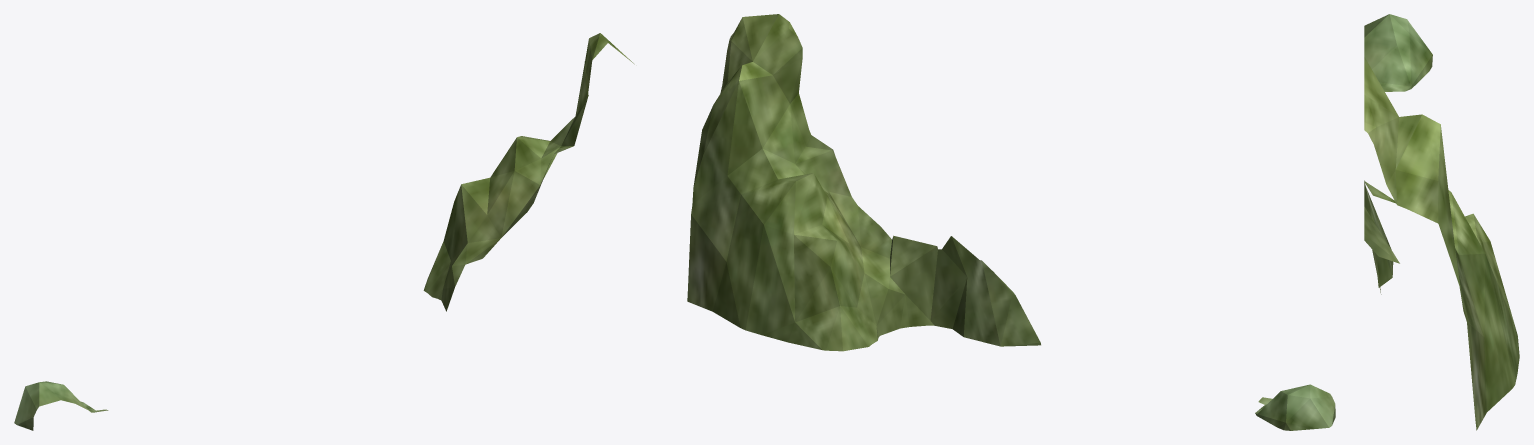
The picture shows the model from 3 angles, left to right: view 1: azimuth 30°, elevation 25°; view 2: azimuth 150°, elevation 25°; view 3: azimuth 270°, elevation 25°; orthographic projection. The views are drawn at different scales.
Bounding box in the file's own units: 5.4 × 2.26 × 0.9247.
1 material, 1 textured.
